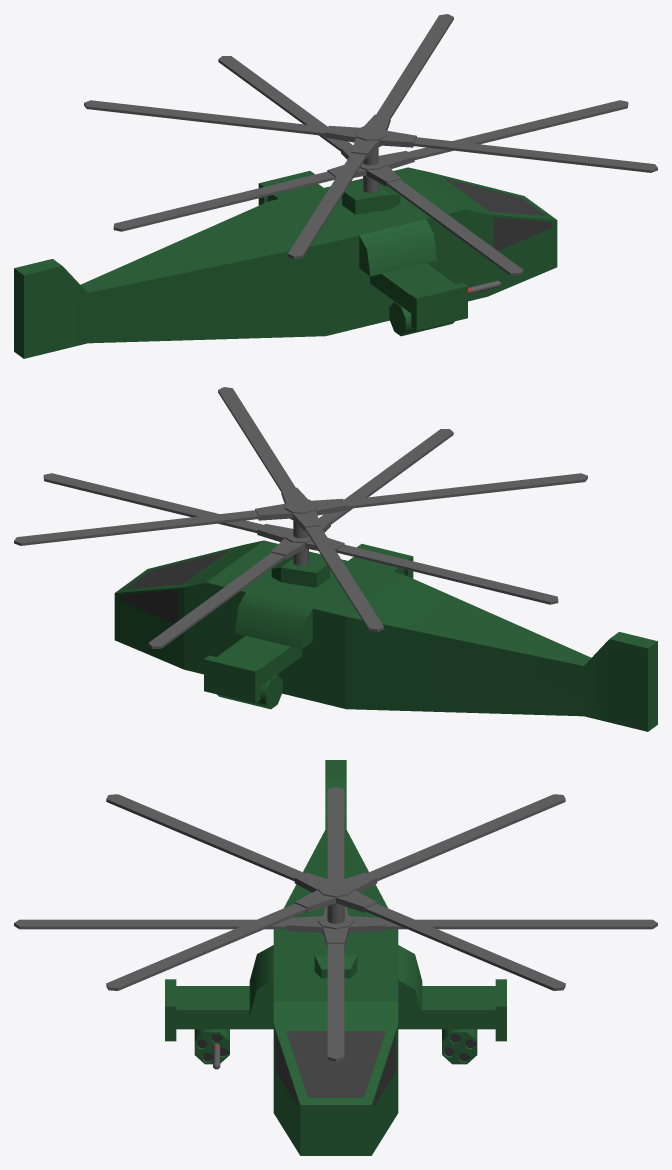
Rendered from HyperCasualHelicopter.fbx.
3 views of the same model, one above another, from view 1: azimuth 30°, elevation 25°; view 2: azimuth 150°, elevation 25°; view 3: azimuth 270°, elevation 25° (orthographic). The views are drawn at different scales.
Parts seen in each view (by area): view 1: base, blades_2, blades_1; view 2: base, blades_2, blades_1; view 3: base, blades_2, blades_1.
Part boxes in pixels (x1,y1,x2,y2): base: (14, 167, 557, 358); blades_2: (84, 14, 657, 258); blades_1: (113, 56, 628, 275); base: (114, 540, 657, 731); blades_2: (14, 387, 587, 631); blades_1: (43, 429, 558, 648); base: (165, 760, 506, 1155); blades_2: (106, 794, 565, 990); blades_1: (14, 787, 657, 1061).
Size of the model in its own units: 13.54 by 3.49 by 11.44.
